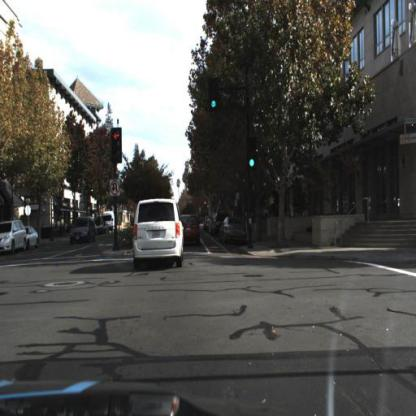car: (129, 192, 189, 275), (172, 205, 205, 256), (1, 219, 29, 253), (68, 215, 99, 244), (219, 217, 249, 245), (212, 212, 229, 240), (22, 224, 40, 250), (24, 226, 42, 249), (106, 208, 120, 236)
trafficLight: (248, 137, 257, 170)
trafficLight-Green: (210, 78, 220, 111)
trafficLight-RedLeft: (111, 126, 124, 163)
